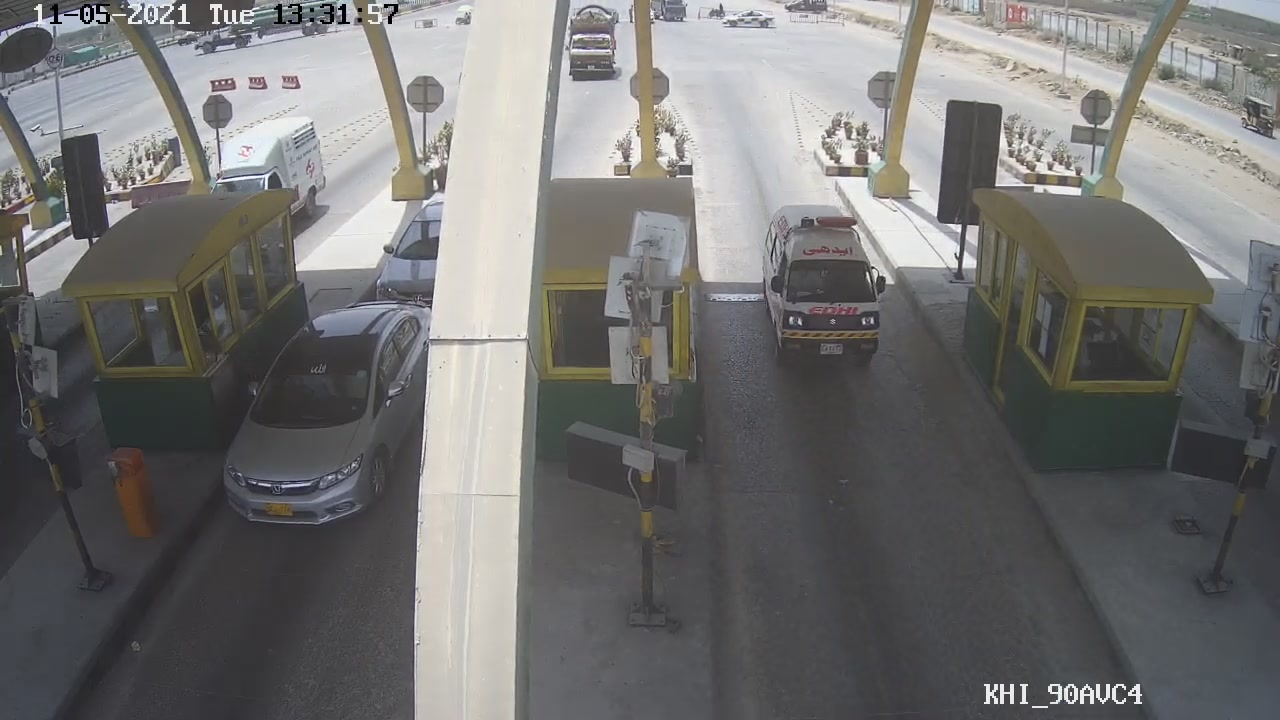F1: (758, 198, 890, 369)
